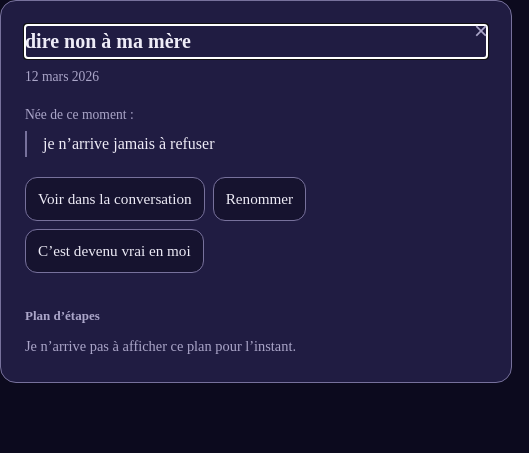
[AC3] le geste — explicite, confirmé, et jamais proposé pour rien › un seul clic ne déclare RIEN : le geste est irréversible, il passe par une confirmation
This screenshot has width=529, height=453.
Click the button "C’est devenu vrai en moi" at (114, 251), box [25,229,204,273]
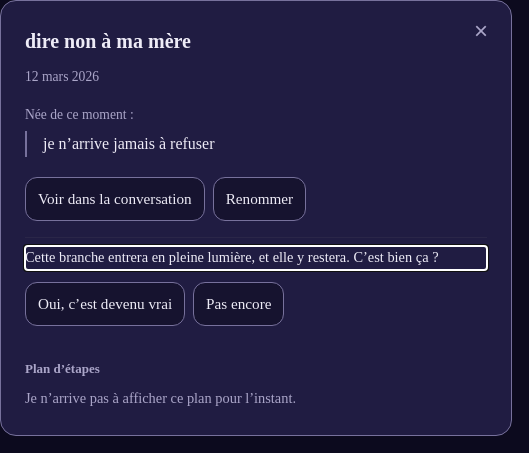
Now the text "elle y restera" is shown, box [25,249,438,265]
